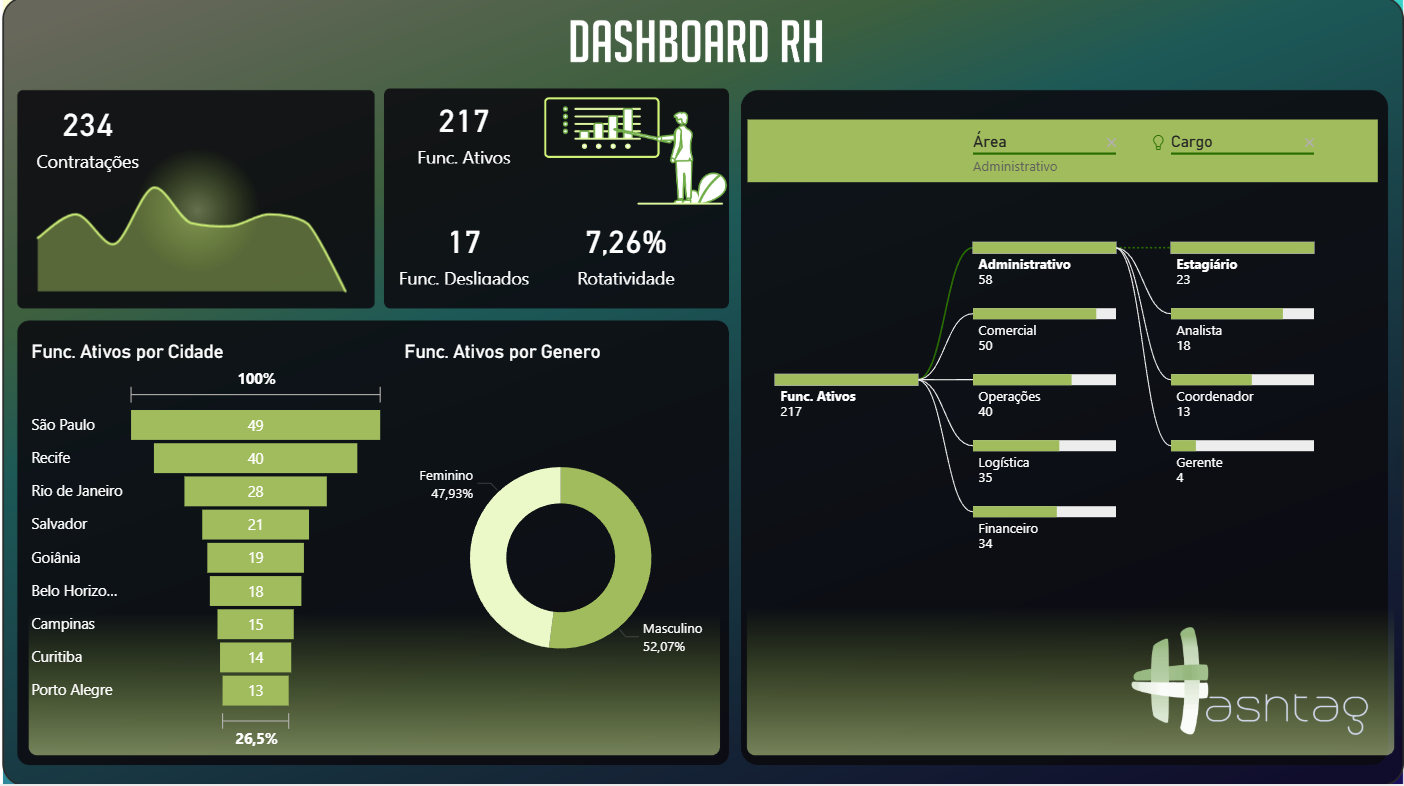

This screenshot's page, from the dashboard's own definition file:
{"tool":"powerbi","page":{"name":"Dashboard","canvas":[1280,720],"ordinal":0},"visuals":[{"type":"card","fields":{"Values":["Medidas.Contratações"]},"box":[20,90,126.7,78.9],"z":0},{"type":"PBI_CV_25997FEB_F466_44FA_B562_AC4063283C4C","fields":{"axis":["DataBase.Data de Contratacao.Variation.Hierarquia de datas.Ano"],"measure":["Medidas.Contratações"]},"box":[20.4,160.9,319.7,122.2],"z":1000},{"type":"card","fields":{"Values":["Medidas.Func. Ativos"]},"box":[352,90,147,71],"z":2000},{"type":"card","fields":{"Values":["Medidas.Func. Desligados"]},"box":[352,200,147,71],"z":2001},{"type":"card","fields":{"Values":["Medidas.Rotatividade"]},"box":[499,200,147,71],"z":2002},{"type":"funnel","fields":{"Y":["Medidas.Func. Ativos"],"Category":["DataBase.Cidade"]},"box":[27,316,332,377],"z":2003},{"type":"donutChart","fields":{"Category":["DataBase.Genero"],"Y":["Medidas.Func. Ativos"]},"box":[366,316,294,377],"z":2004},{"type":"decompositionTreeVisual","fields":{"ExplainBy":["DataBase.Área","DataBase.Cargo"],"Analyze":["Medidas.Func. Ativos"]},"box":[677.8,111.1,583.3,461.1],"z":2005}]}

Visuals, with their boxes in screenshot pixels (x1, y1, x2, y2), scaled from the page's 1280x720 canvas onto the 1404x786 screenshot:
card - Medidas.Contratações: [left=22, top=98, right=161, bottom=184]
PBI_CV_25997FEB_F466_44FA_B562_AC4063283C4C - DataBase.Data de Contratacao.Variation.Hierarquia de datas.Ano x Medidas.Contratações: [left=22, top=176, right=373, bottom=309]
card - Medidas.Func. Ativos: [left=386, top=98, right=547, bottom=176]
card - Medidas.Func. Desligados: [left=386, top=218, right=547, bottom=296]
card - Medidas.Rotatividade: [left=547, top=218, right=709, bottom=296]
funnel - Medidas.Func. Ativos x DataBase.Cidade: [left=30, top=345, right=394, bottom=757]
donutChart - DataBase.Genero x Medidas.Func. Ativos: [left=401, top=345, right=724, bottom=757]
decompositionTreeVisual - DataBase.Área x DataBase.Cargo: [left=743, top=121, right=1383, bottom=625]
